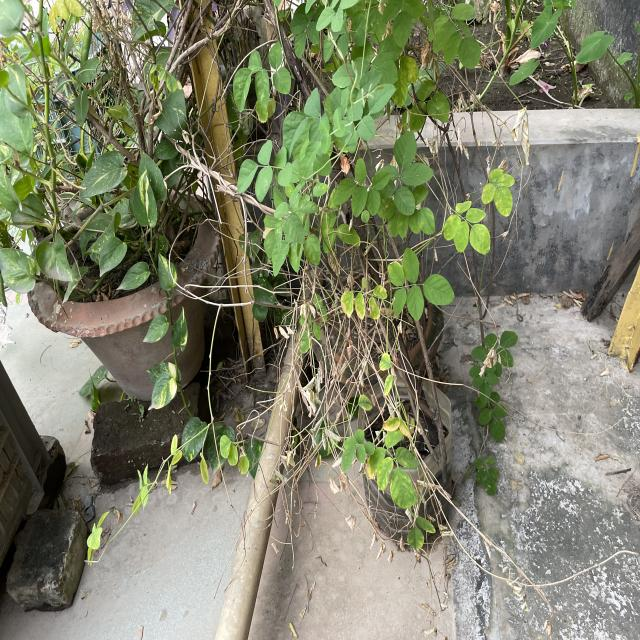Breeding Place: (26, 202, 224, 397), (371, 381, 458, 546)
